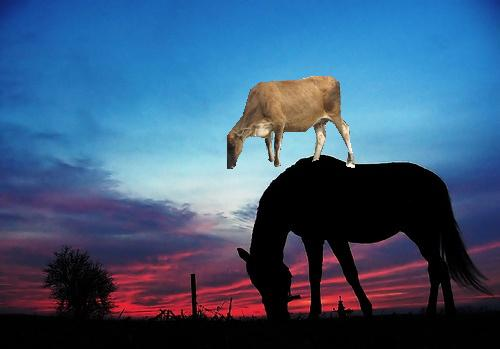tampered: (228, 77, 355, 169)
